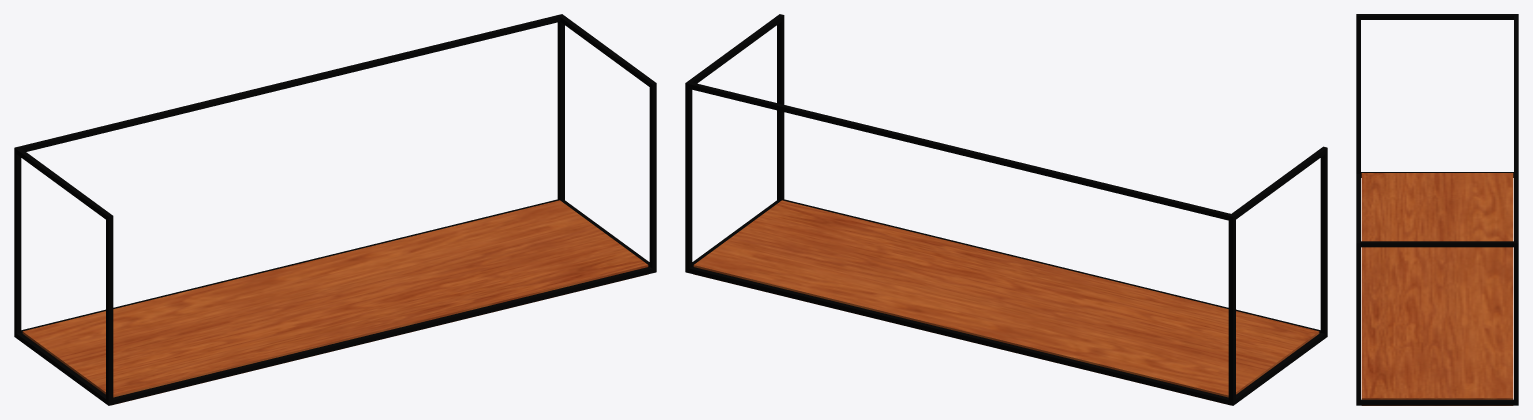
Rendered from Shelf_05_a_Art.fbx.
3 renders of one model, left to right at view 1: azimuth 30°, elevation 25°; view 2: azimuth 150°, elevation 25°; view 3: azimuth 270°, elevation 25°, orthographic. The views are drawn at different scales.
Parts seen in each view (by area): view 1: Shelf_05_a; view 2: Shelf_05_a; view 3: Shelf_05_a.
Part boxes in pixels (bbox=[...]): Shelf_05_a: bbox=[14, 14, 656, 405]; Shelf_05_a: bbox=[685, 14, 1327, 405]; Shelf_05_a: bbox=[1356, 14, 1518, 405].
Bounding box in the file's own units: 301 × 101 × 90.
